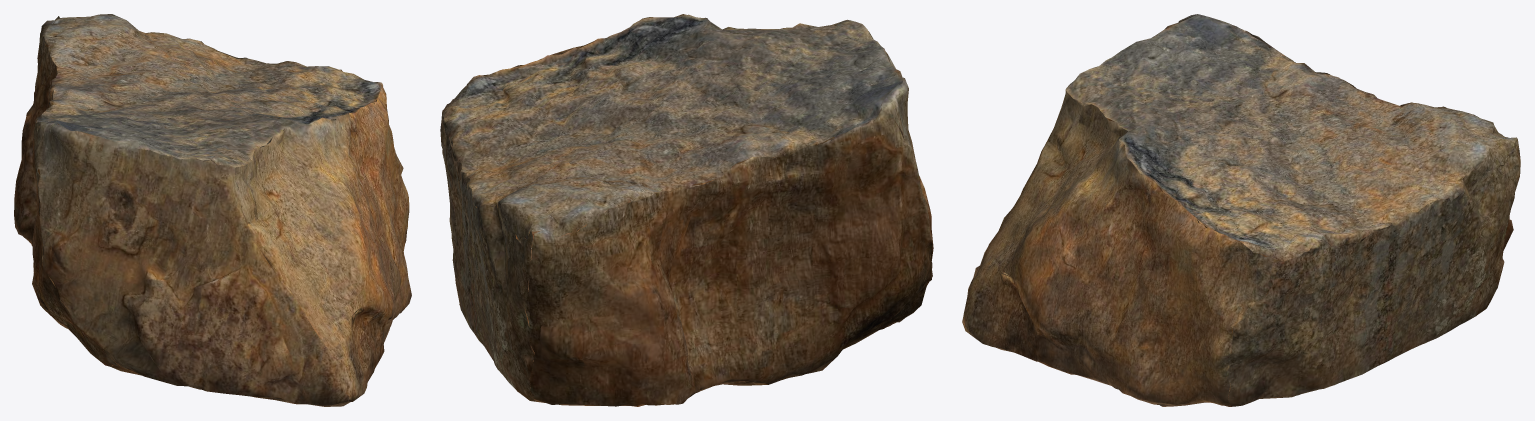
Rendered from kaya_yuksek.gltf.
3 views of the same model, side by side, from view 1: azimuth 30°, elevation 25°; view 2: azimuth 150°, elevation 25°; view 3: azimuth 270°, elevation 25° (orthographic). The views are drawn at different scales.
Visible parts, largest first — view 1: kaya_yuksek; view 2: kaya_yuksek; view 3: kaya_yuksek.
Boxes of the visible parts, <box> form: kaya_yuksek: <box>14,14,411,406</box>; kaya_yuksek: <box>440,14,933,406</box>; kaya_yuksek: <box>962,14,1520,406</box>.
Size of what is drawn, in the model's own units: 2.4 by 1.48 by 3.07.
Materials: 1 (1 with a texture image).
